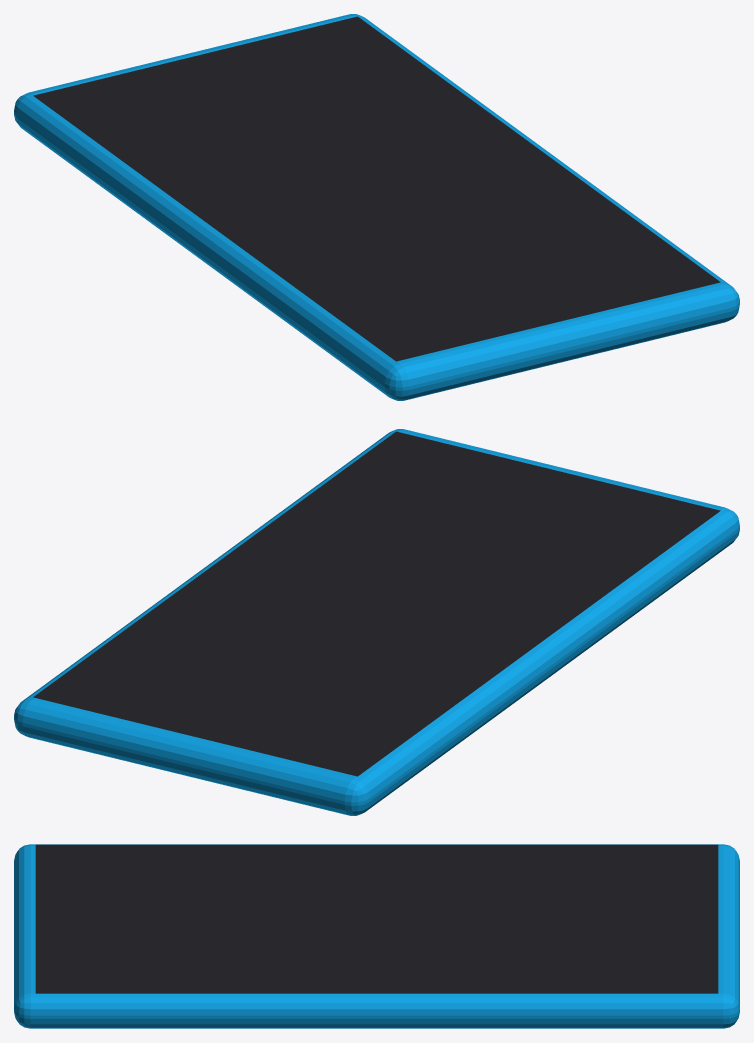
The model's file is Phone_940.glb.
The picture shows the model from 3 angles, top to bottom: view 1: azimuth 30°, elevation 25°; view 2: azimuth 150°, elevation 25°; view 3: azimuth 270°, elevation 25°; orthographic projection. The views are drawn at different scales.
Parts seen in each view (by area): view 1: Phone_Screen, Phone_Body; view 2: Phone_Screen, Phone_Body; view 3: Phone_Screen, Phone_Body.
Boxes of the visible parts, box(x1,y1,x2,y2) form: Phone_Screen: box(33, 16, 720, 361); Phone_Body: box(14, 14, 739, 400); Phone_Screen: box(33, 431, 720, 776); Phone_Body: box(14, 429, 739, 815); Phone_Screen: box(35, 844, 718, 993); Phone_Body: box(14, 844, 739, 1028).
Bounding box in the file's own units: 0.076 × 0.0075 × 0.1441.
